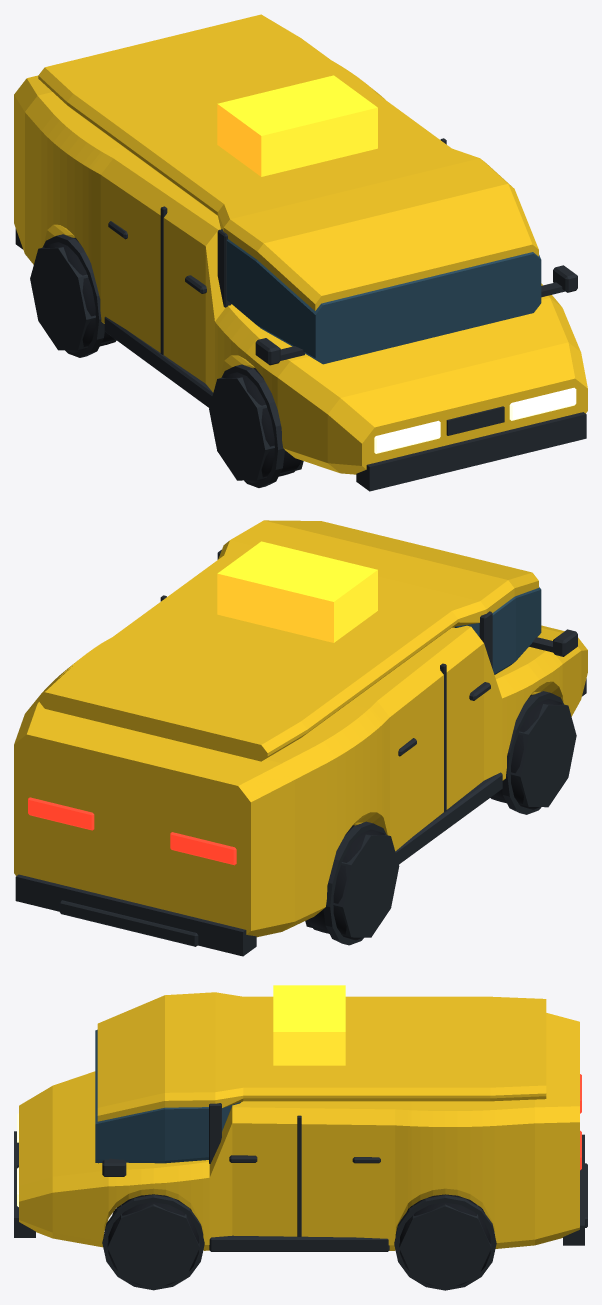
File: van.glb
3 renders of one model, top to bottom at view 1: azimuth 30°, elevation 25°; view 2: azimuth 150°, elevation 25°; view 3: azimuth 270°, elevation 25°, orthographic. The views are drawn at different scales.
Parts seen in each view (by area): view 1: van_body, van_glass, van_fleet_trim, van_trim, van_topper, van_headlights, van_front_left_tyre, van_rear_left_tyre; view 2: van_body, van_fleet_trim, van_topper, van_trim, van_glass, van_taillights, van_rear_left_tyre, van_front_left_tyre; view 3: van_body, van_fleet_trim, van_trim, van_glass, van_topper, van_rear_right_tyre, van_front_right_tyre.
Part boxes in pixels (x1=…): van_body: x1=14, y1=14, x2=587, y2=474; van_glass: x1=226, y1=239, x2=541, y2=364; van_fleet_trim: x1=15, y1=228, x2=586, y2=491; van_trim: x1=18, y1=138, x2=583, y2=487; van_topper: x1=217, y1=75, x2=377, y2=176; van_headlights: x1=374, y1=387, x2=576, y2=453; van_front_left_tyre: x1=223, y1=368, x2=301, y2=482; van_rear_left_tyre: x1=44, y1=237, x2=115, y2=352; van_body: x1=14, y1=520, x2=587, y2=937; van_fleet_trim: x1=15, y1=678, x2=586, y2=956; van_topper: x1=217, y1=541, x2=377, y2=642; van_trim: x1=19, y1=549, x2=577, y2=948; van_glass: x1=454, y1=587, x2=541, y2=674; van_taillights: x1=28, y1=797, x2=236, y2=865; van_rear_left_tyre: x1=307, y1=825, x2=384, y2=940; van_front_left_tyre: x1=490, y1=694, x2=562, y2=809; van_body: x1=19, y1=992, x2=579, y2=1250; van_fleet_trim: x1=14, y1=1131, x2=584, y2=1289; van_trim: x1=16, y1=1103, x2=587, y2=1290; van_glass: x1=95, y1=1029, x2=240, y2=1163; van_topper: x1=273, y1=985, x2=345, y2=1065; van_rear_right_tyre: x1=400, y1=1194, x2=490, y2=1285; van_front_right_tyre: x1=108, y1=1194, x2=198, y2=1285.
Bounding box in the file's own units: 2.95 × 2.46 × 5.73.
